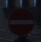No entry: (6, 6, 36, 37)
